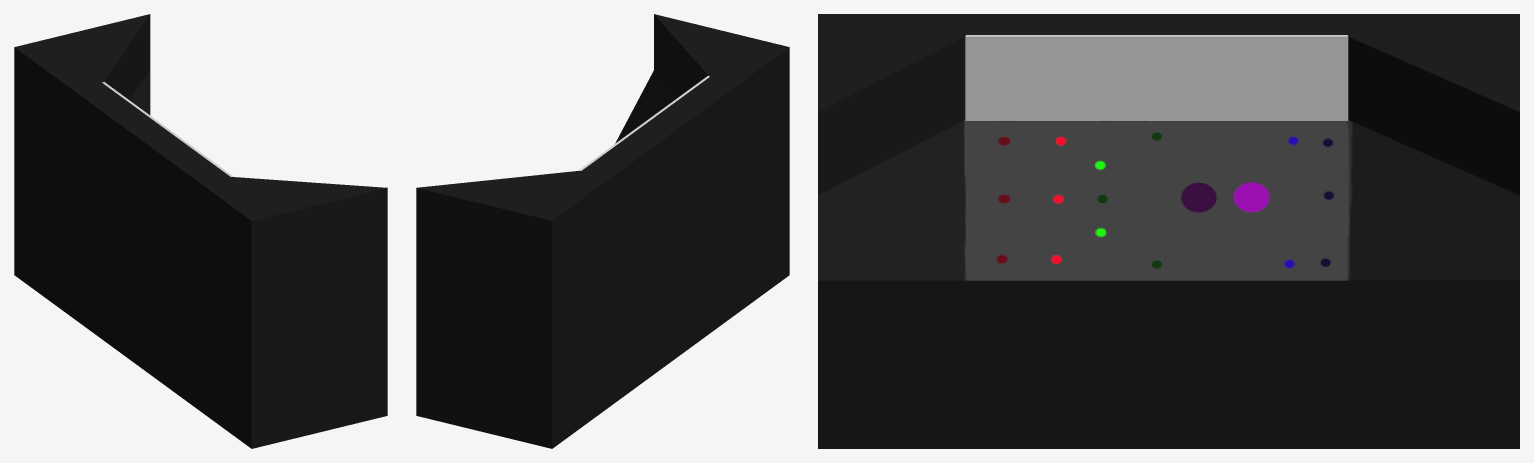
Rendered from терминал(пк).fbx.
The picture shows the model from 3 angles, left to right: view 1: azimuth 30°, elevation 25°; view 2: azimuth 150°, elevation 25°; view 3: azimuth 270°, elevation 25°; orthographic projection. The views are drawn at different scales.
Visible parts, largest first — view 1: Cube, Куб; view 2: Cube, Куб; view 3: Cube, Куб.
Boxes of the visible parts, bbox=[...] form: Cube: bbox=[14, 14, 387, 448]; Куб: bbox=[102, 82, 233, 176]; Cube: bbox=[416, 14, 789, 448]; Куб: bbox=[578, 76, 709, 170]; Cube: bbox=[818, 14, 1519, 448]; Куб: bbox=[965, 35, 1348, 120].
Size of the model in its own units: 200 by 321 by 605.
Materials: 2 (1 with a texture image).
